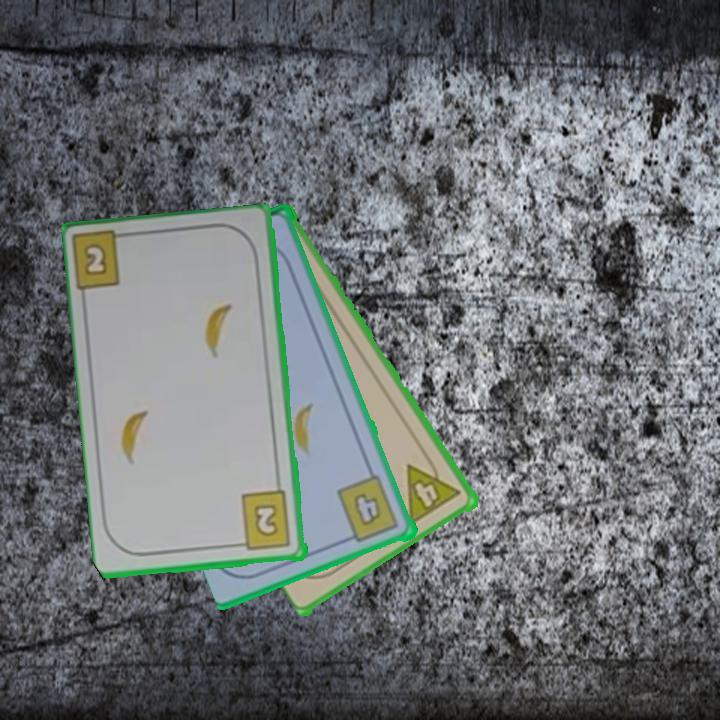2b: (233, 488, 294, 553), (80, 240, 111, 280)
4b: (334, 473, 402, 546)
4p: (403, 451, 465, 527)
